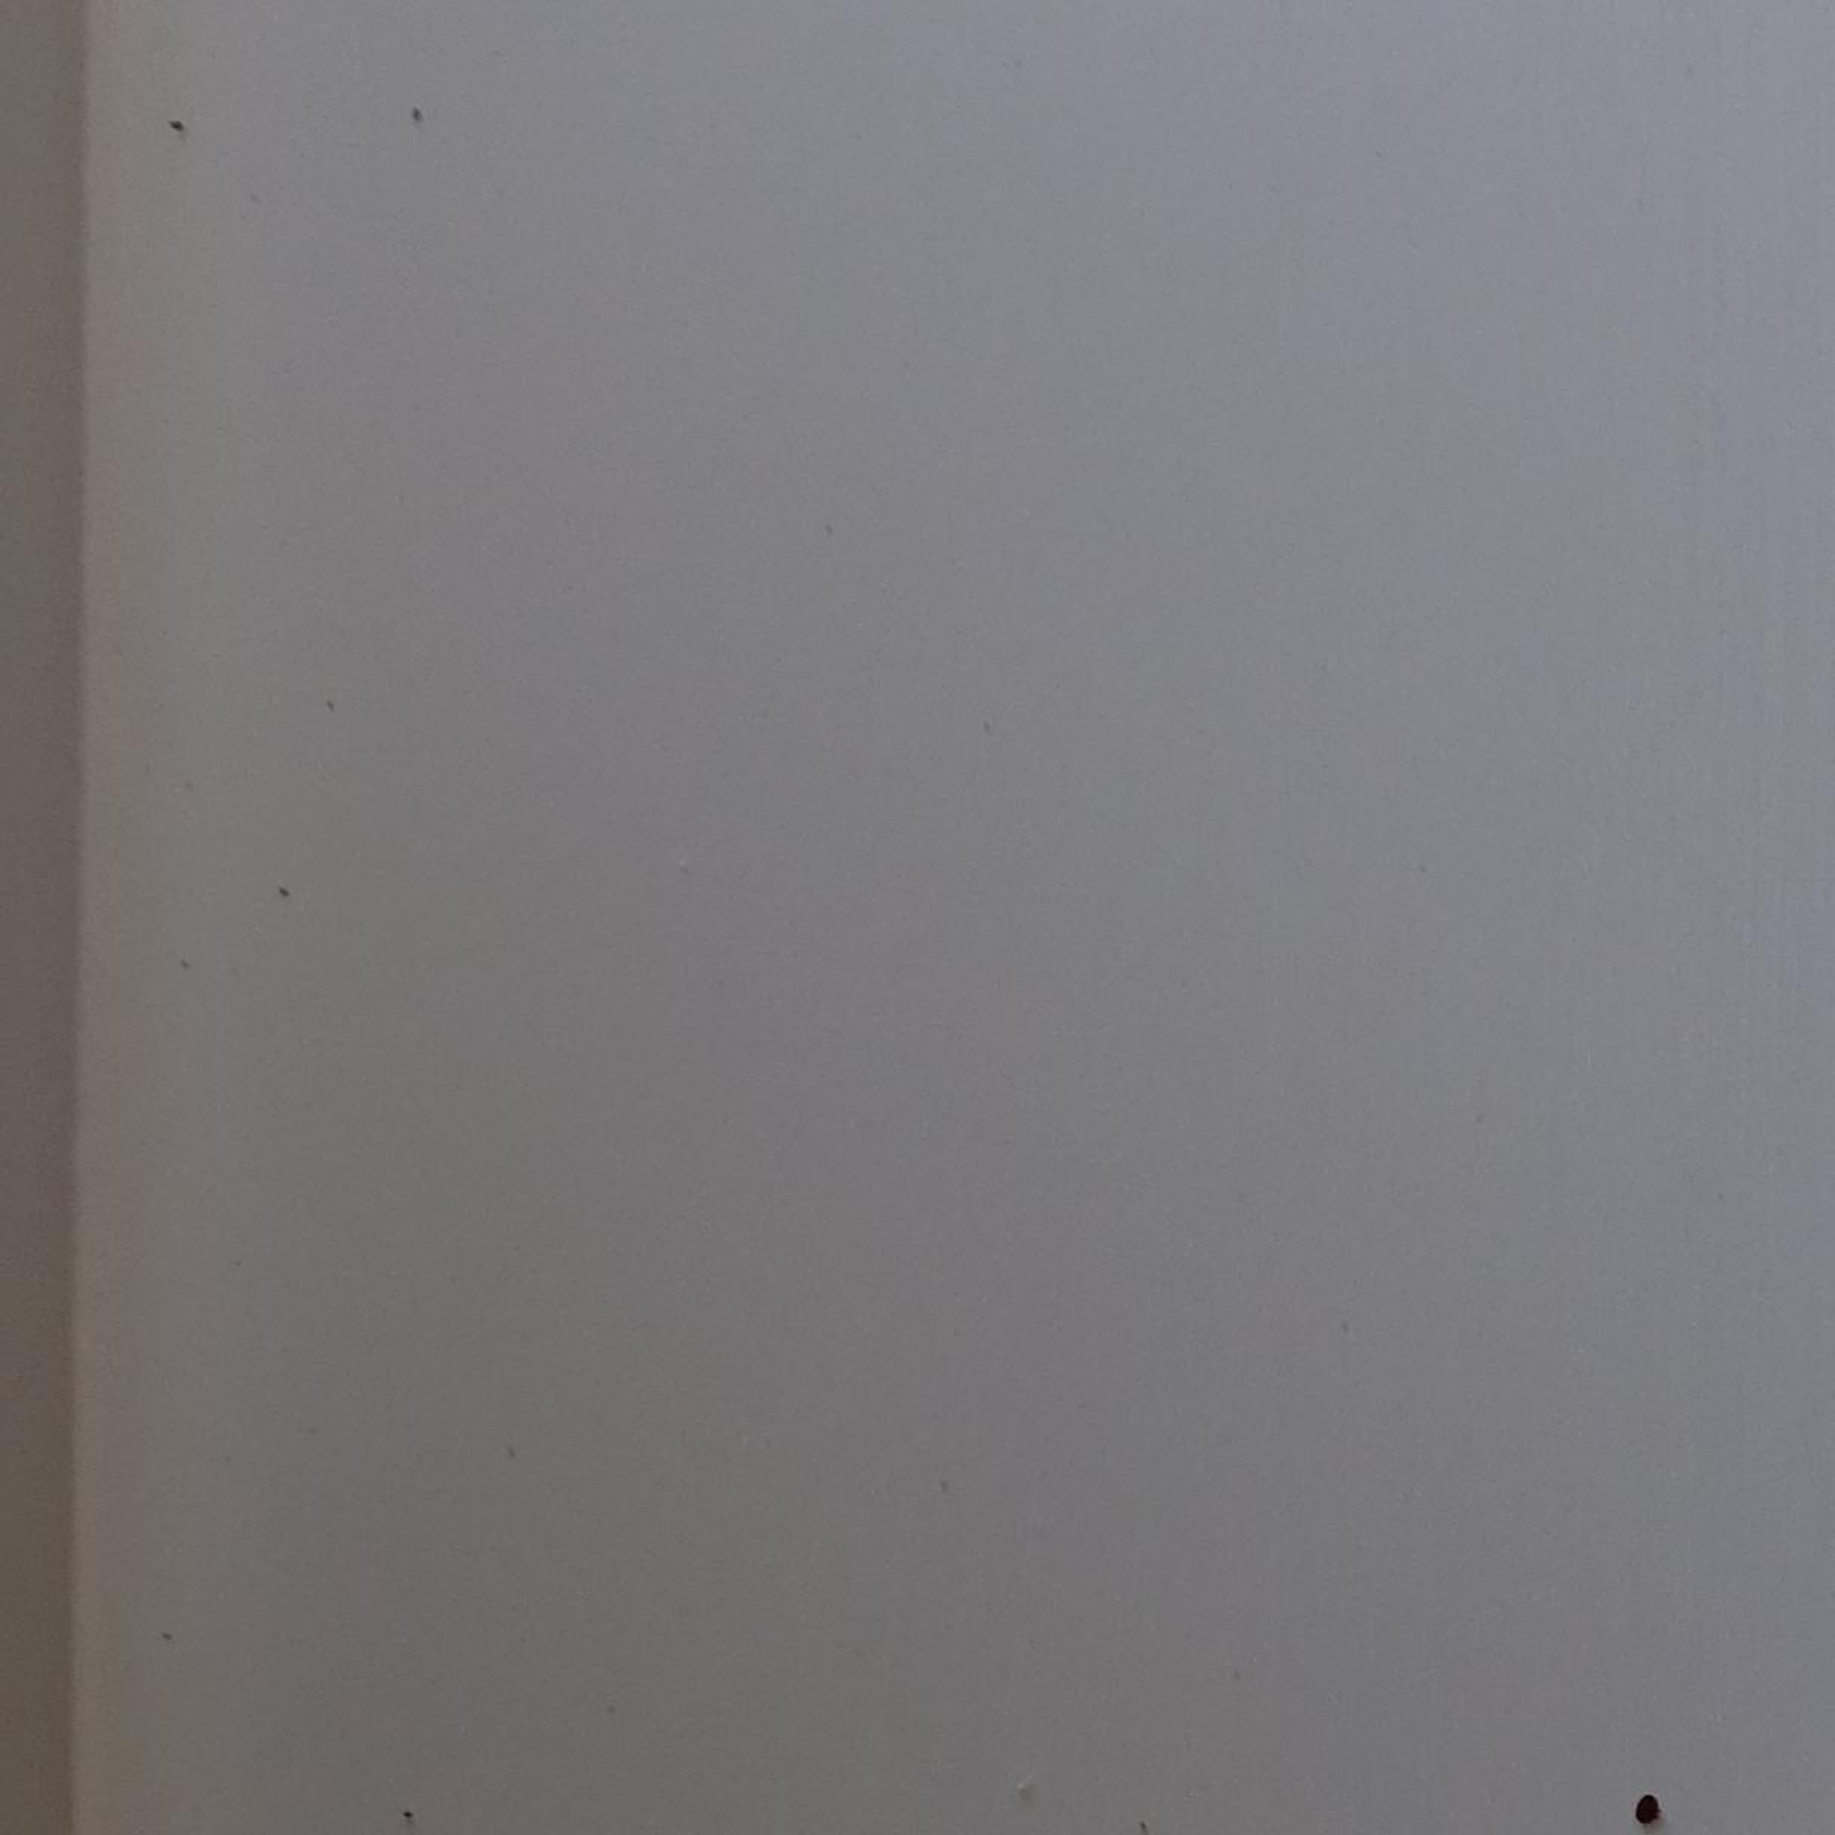Varroa: (1635, 1801, 1660, 1827)
